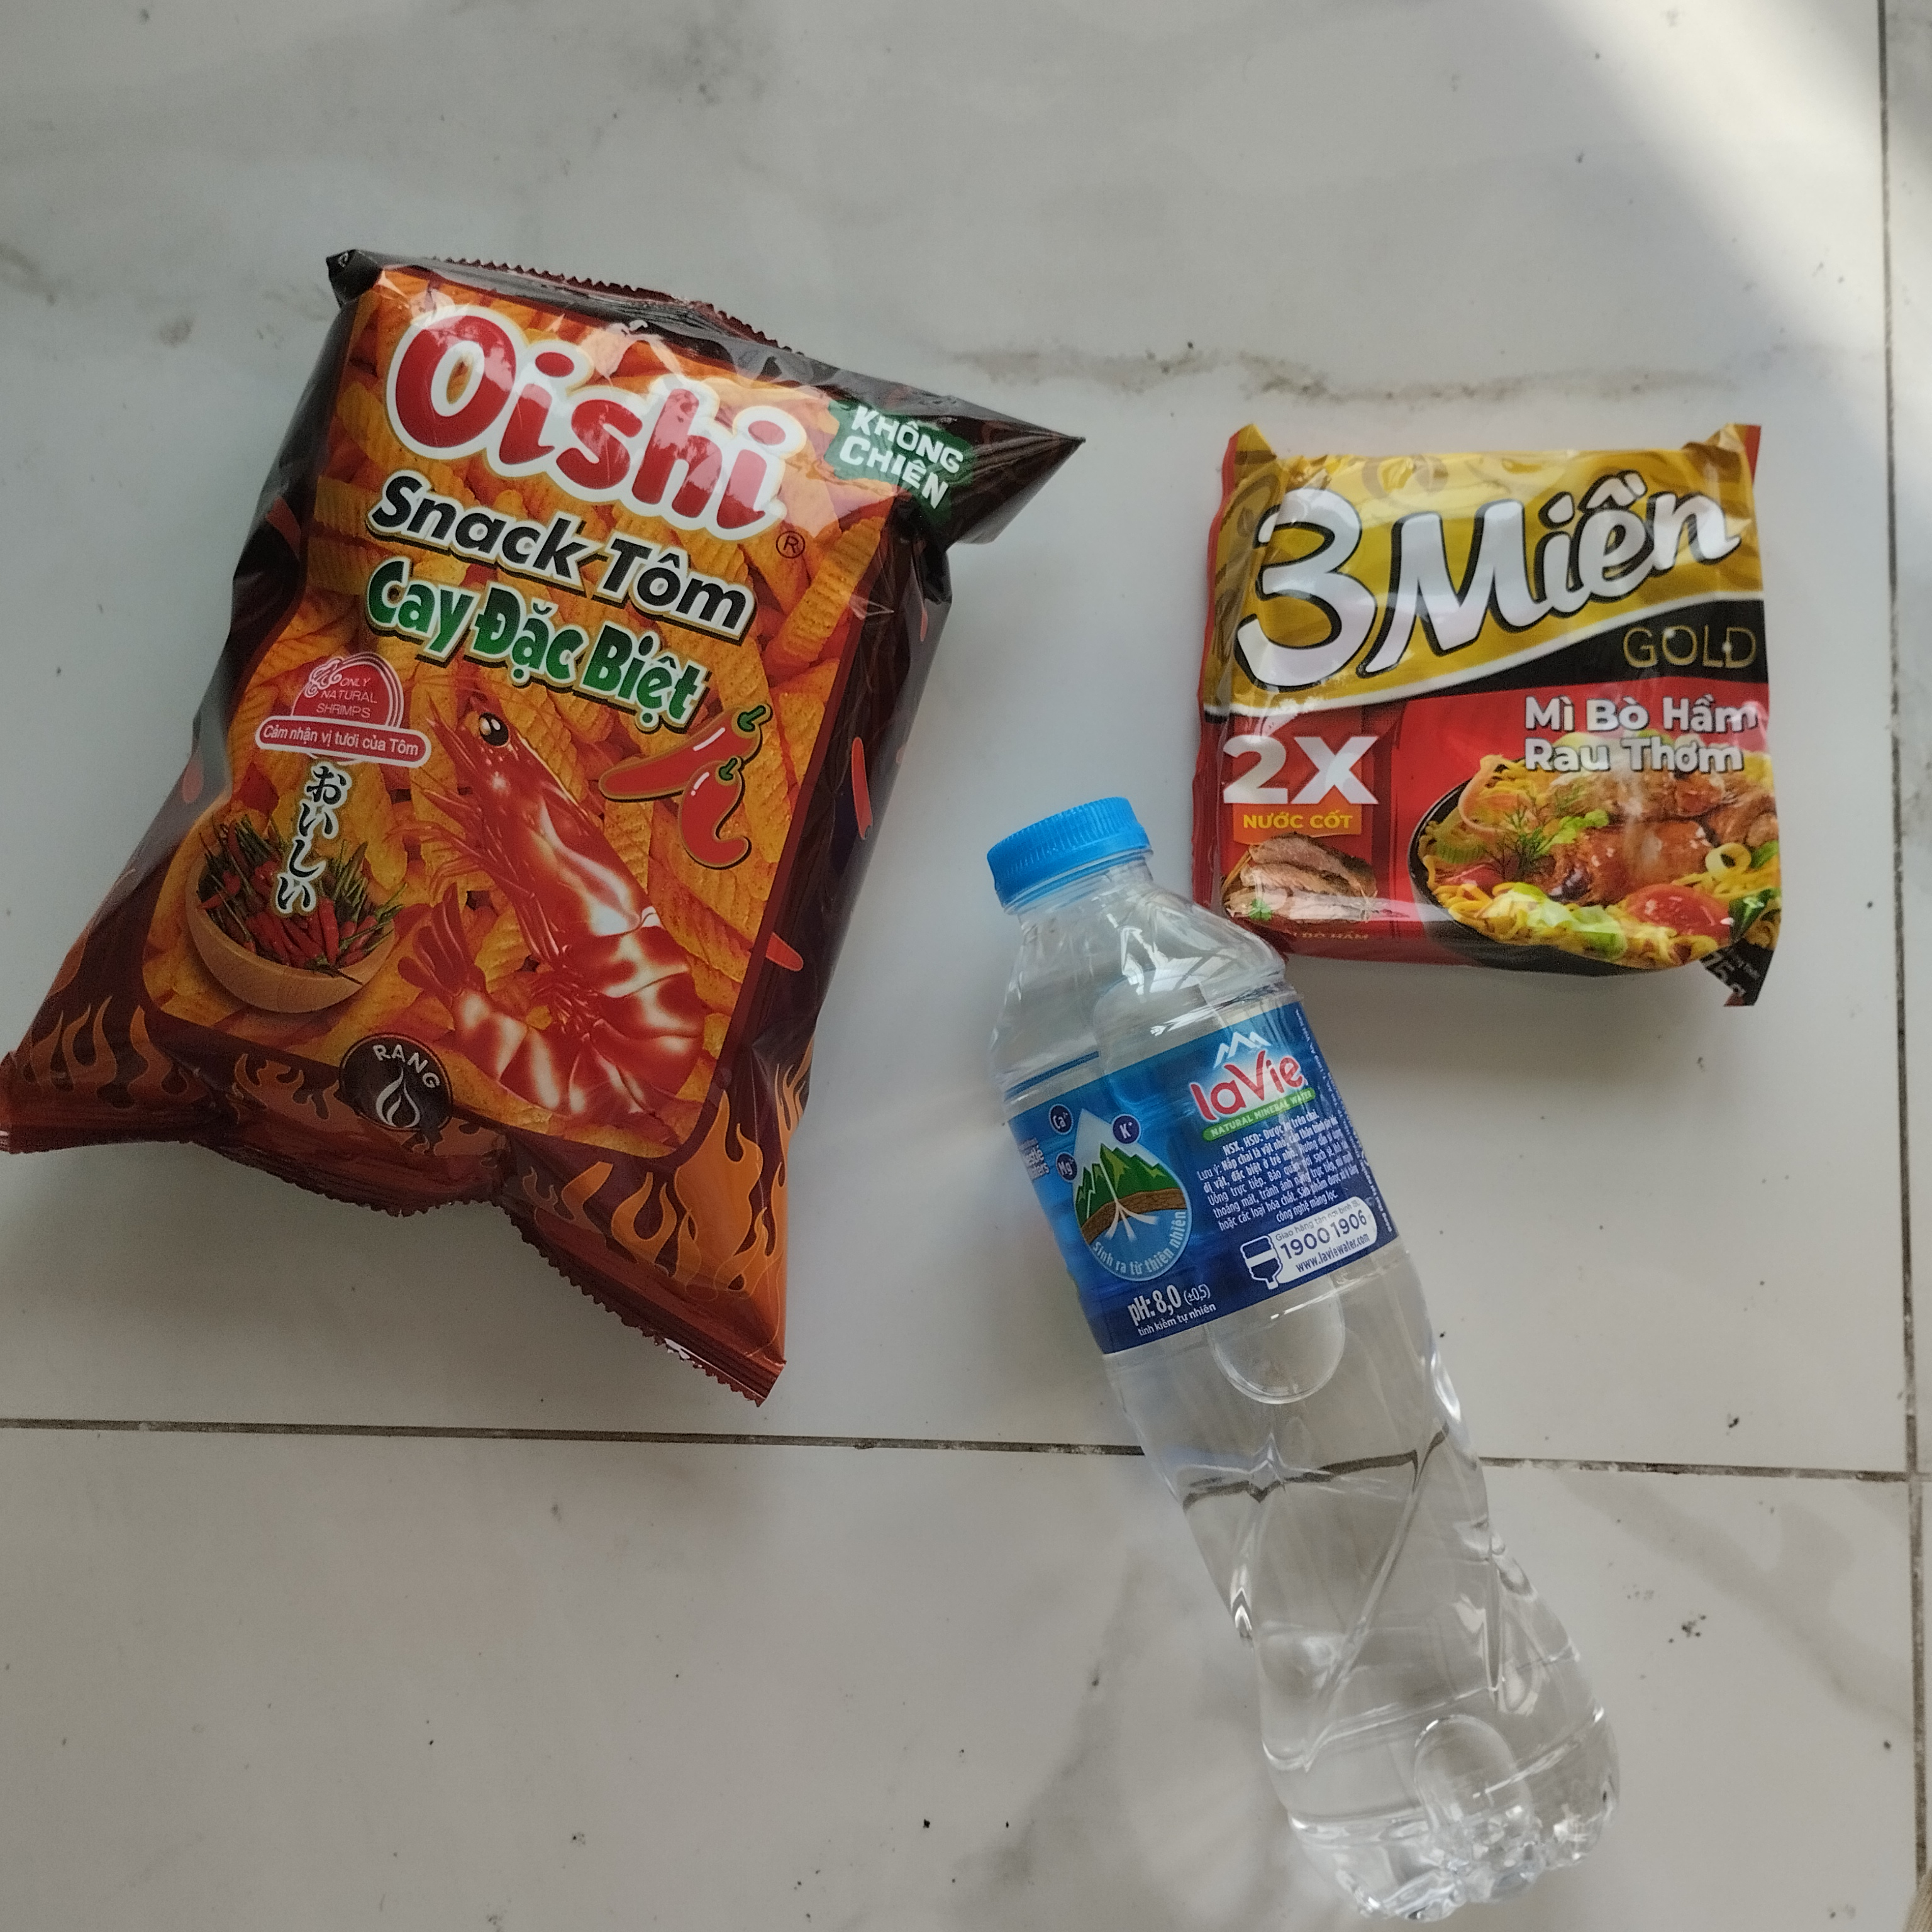3mien: (1161, 386, 1813, 1040)
Lavie: (971, 784, 1642, 1918)
Oishi_Cay: (19, 228, 1086, 1389)
